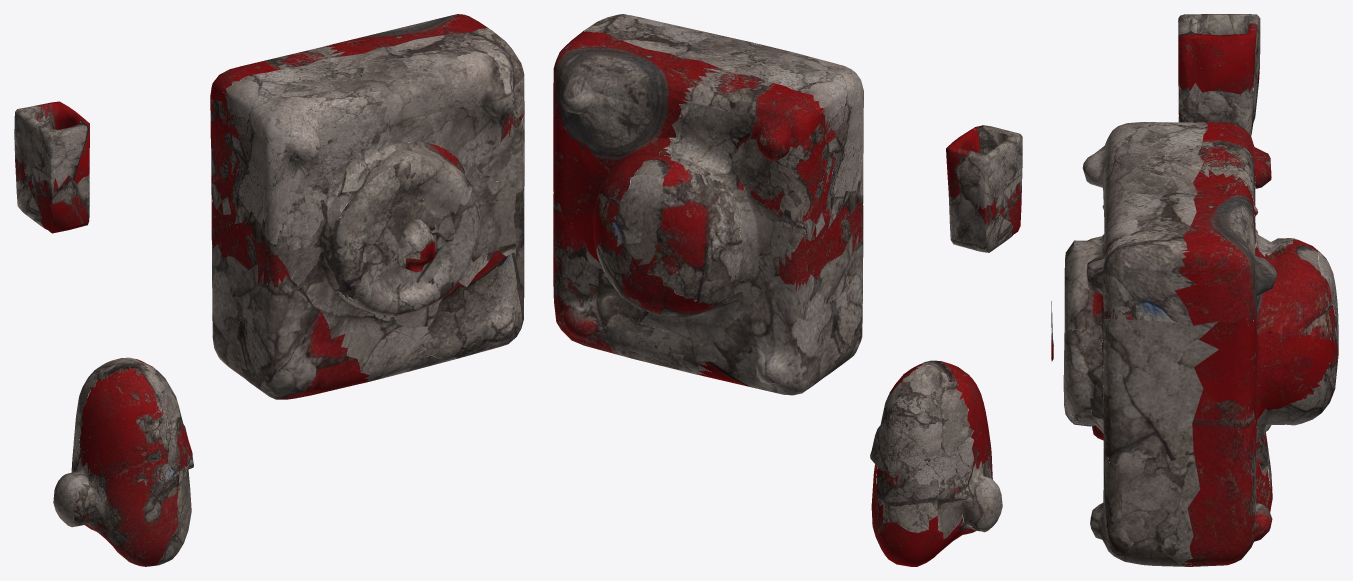
The model's file is env_break_glass_panel_01.glb.
3 renders of one model, left to right at view 1: azimuth 30°, elevation 25°; view 2: azimuth 150°, elevation 25°; view 3: azimuth 270°, elevation 25°, orthographic. The views are drawn at different scales.
Parts seen in each view (by area): view 1: tripo_node_9bc8e5f5-b4df-48d5-93b6-65c3dab799a3; view 2: tripo_node_9bc8e5f5-b4df-48d5-93b6-65c3dab799a3; view 3: tripo_node_9bc8e5f5-b4df-48d5-93b6-65c3dab799a3.
Boxes of the visible parts, box(x1,y1,x2,y2) form: tripo_node_9bc8e5f5-b4df-48d5-93b6-65c3dab799a3: box(14, 14, 524, 566); tripo_node_9bc8e5f5-b4df-48d5-93b6-65c3dab799a3: box(553, 14, 1022, 566); tripo_node_9bc8e5f5-b4df-48d5-93b6-65c3dab799a3: box(1051, 14, 1338, 566).
Size of the model in its own units: 0.9999 by 0.9273 by 0.5112.
Materials: 1 (1 with a texture image).
